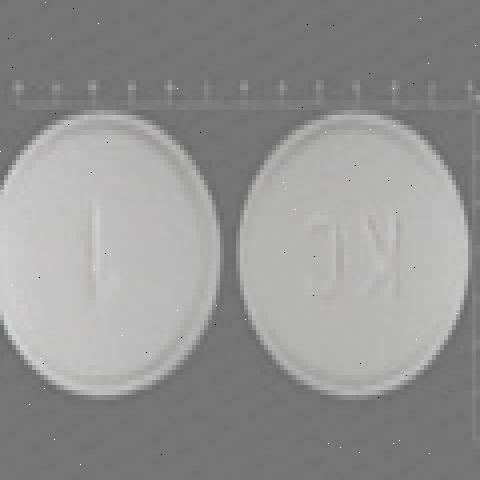Pill: (228, 93, 476, 421), (0, 91, 227, 423)
